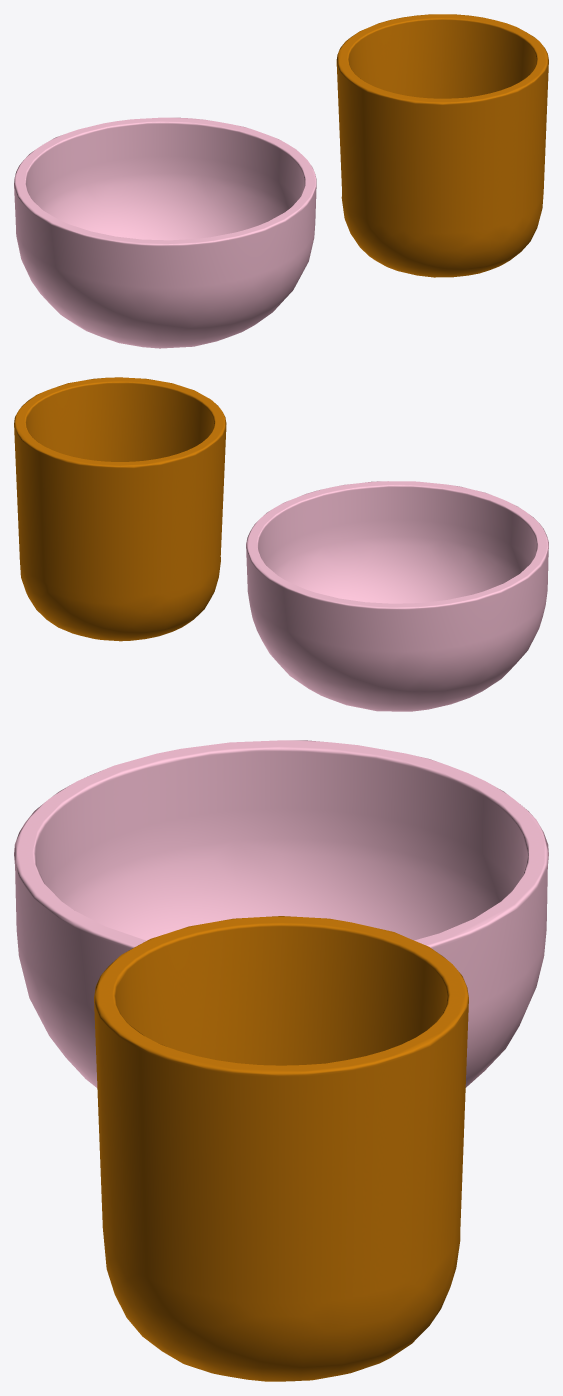
3 renders of one model, top to bottom at view 1: azimuth 30°, elevation 25°; view 2: azimuth 150°, elevation 25°; view 3: azimuth 270°, elevation 25°, orthographic. The views are drawn at different scales.
Visible parts, largest first — view 1: ASY_LPT02_80605901_S01_NV01, ASY_LPT01_80605901_S01_NV01; view 2: ASY_LPT02_80605901_S01_NV01, ASY_LPT01_80605901_S01_NV01; view 3: ASY_LPT01_80605901_S01_NV01, ASY_LPT02_80605901_S01_NV01.
Part boxes in pixels (left/top/right/bottom): ASY_LPT02_80605901_S01_NV01: left=14, top=117, right=316, bottom=348; ASY_LPT01_80605901_S01_NV01: left=336, top=14, right=548, bottom=277; ASY_LPT02_80605901_S01_NV01: left=246, top=481, right=548, bottom=711; ASY_LPT01_80605901_S01_NV01: left=14, top=377, right=226, bottom=641; ASY_LPT01_80605901_S01_NV01: left=94, top=916, right=468, bottom=1381; ASY_LPT02_80605901_S01_NV01: left=14, top=740, right=548, bottom=1087.
Bounding box in the file's own units: 0.191 × 0.0701 × 0.1.
Materials: 2 (2 with a texture image).
